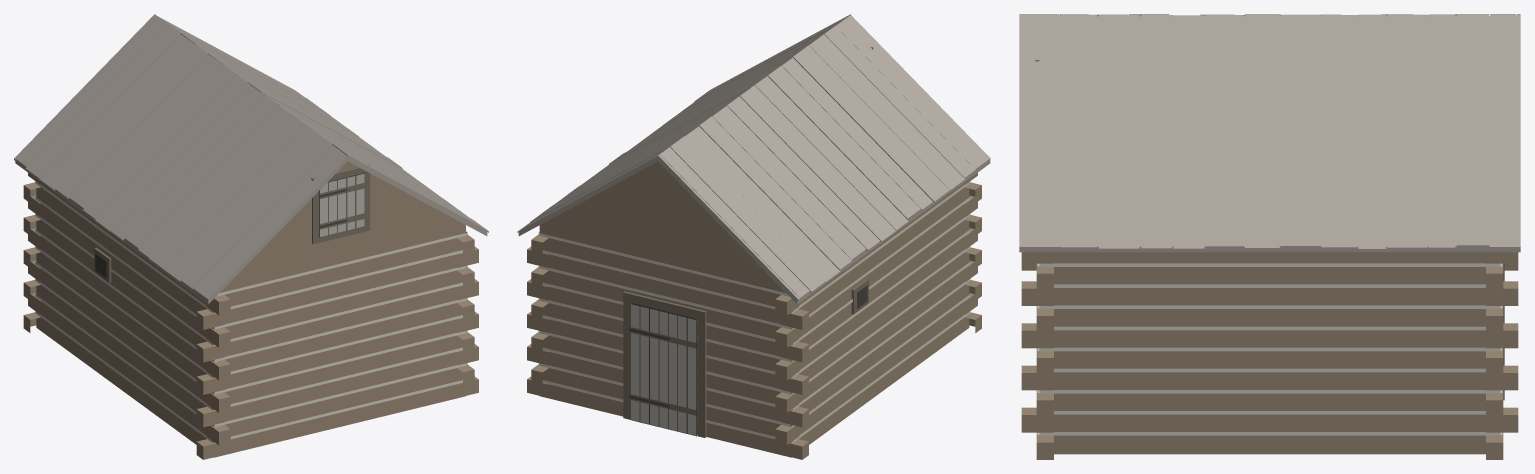
The model's file is recon_1835_blk_lake_franklin_a1_03__inferred_1835.glb.
The picture shows the model from 3 angles, left to right: view 1: azimuth 30°, elevation 25°; view 2: azimuth 150°, elevation 25°; view 3: azimuth 270°, elevation 25°; orthographic projection. The views are drawn at different scales.
Parts seen in each view (by area): view 1: recon_1835_blk_lake_franklin_a1_03__inferred_1835; view 2: recon_1835_blk_lake_franklin_a1_03__inferred_1835; view 3: recon_1835_blk_lake_franklin_a1_03__inferred_1835.
Part boxes in pixels (<box>): recon_1835_blk_lake_franklin_a1_03__inferred_1835: <box>14,14,488,459</box>; recon_1835_blk_lake_franklin_a1_03__inferred_1835: <box>517,14,990,459</box>; recon_1835_blk_lake_franklin_a1_03__inferred_1835: <box>1019,14,1520,459</box>.
Size of the model in its own units: 5.81 by 5.43 by 6.84.
